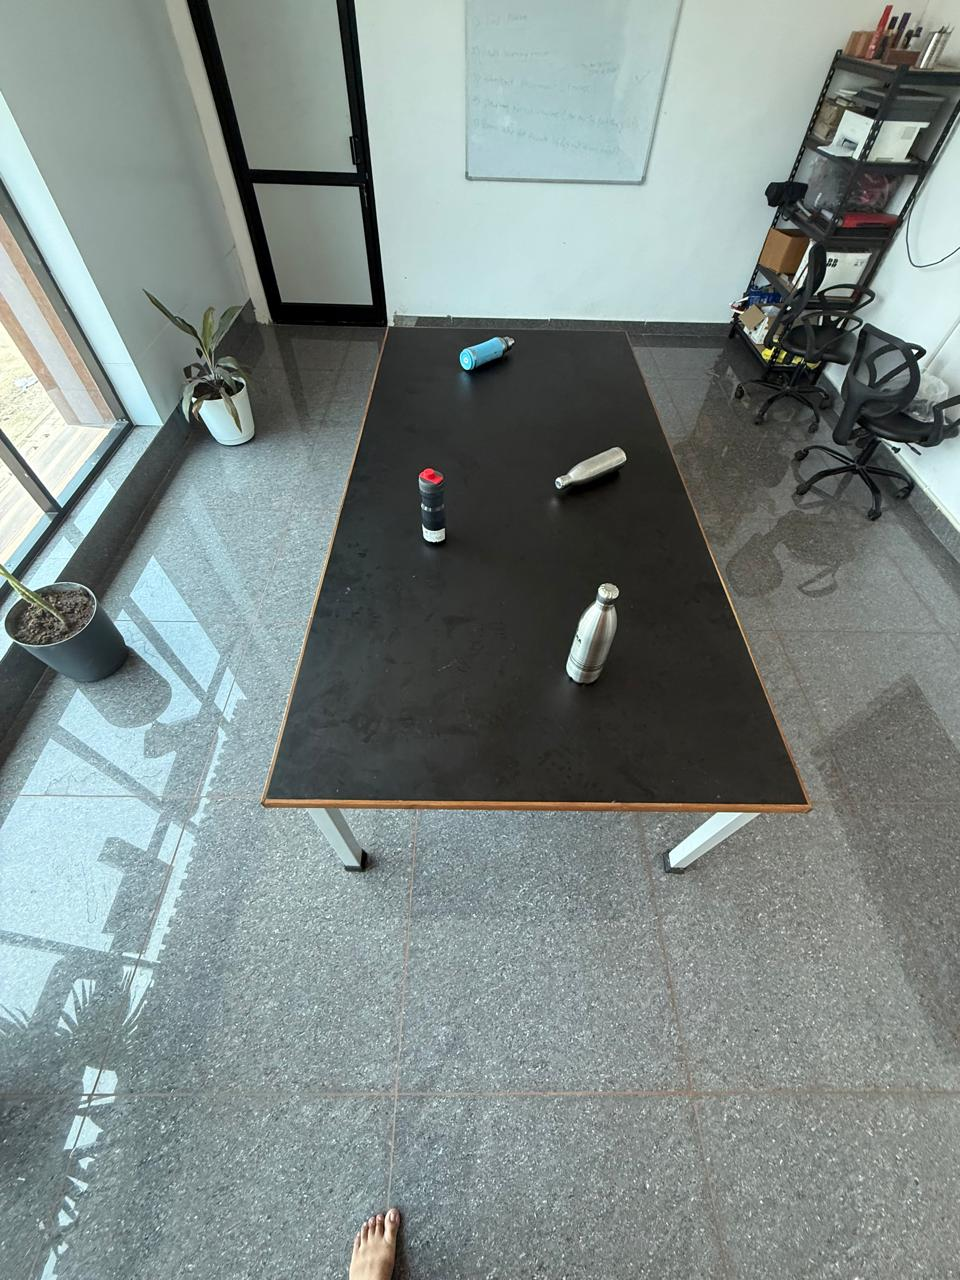bottle_on_table: (549, 575, 640, 694), (387, 458, 488, 552), (549, 433, 640, 511), (465, 326, 528, 387)
